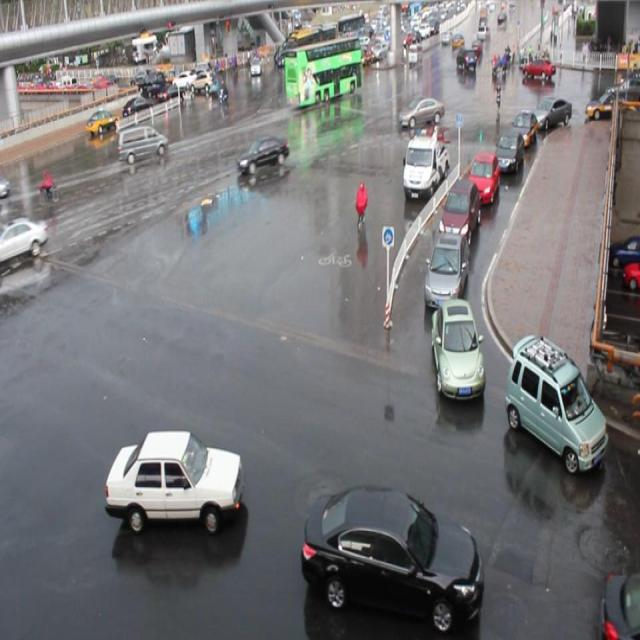bus: (402, 130, 449, 200)
car: (301, 484, 483, 630), (503, 327, 609, 472), (105, 426, 243, 530), (431, 298, 484, 400), (425, 230, 469, 306), (598, 566, 640, 640), (438, 178, 480, 244), (1, 215, 48, 267), (237, 136, 289, 173), (466, 150, 499, 204), (530, 96, 570, 132), (399, 96, 444, 127), (493, 129, 524, 172), (510, 110, 537, 146)
truck: (118, 122, 168, 162)
van: (284, 37, 362, 102)
